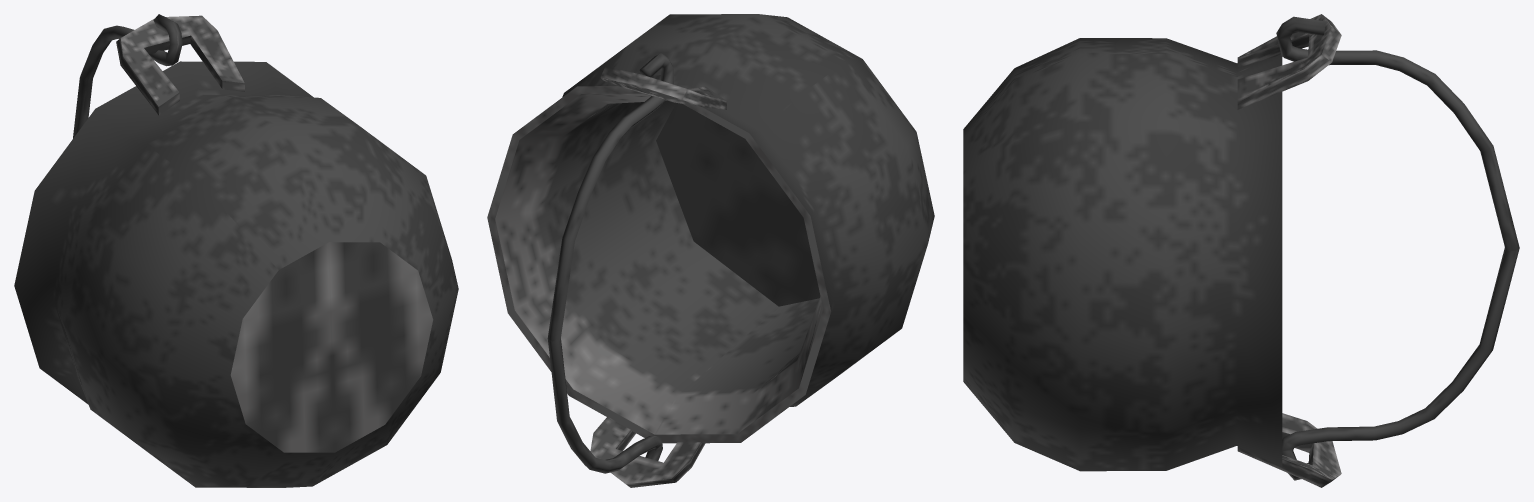
File: PotForged_Hand.fbx
3 renders of one model, left to right at view 1: azimuth 30°, elevation 25°; view 2: azimuth 150°, elevation 25°; view 3: azimuth 270°, elevation 25°, orthographic. The views are drawn at different scales.
Visible parts, largest first — view 1: CookingPot_Forged; view 2: CookingPot_Forged; view 3: CookingPot_Forged.
Part boxes in pixels (<box>): CookingPot_Forged: <box>14,14,458,487</box>; CookingPot_Forged: <box>487,14,934,487</box>; CookingPot_Forged: <box>963,14,1519,487</box>.
Bounding box in the file's own units: 0.2159 × 0.2505 × 0.2756.
